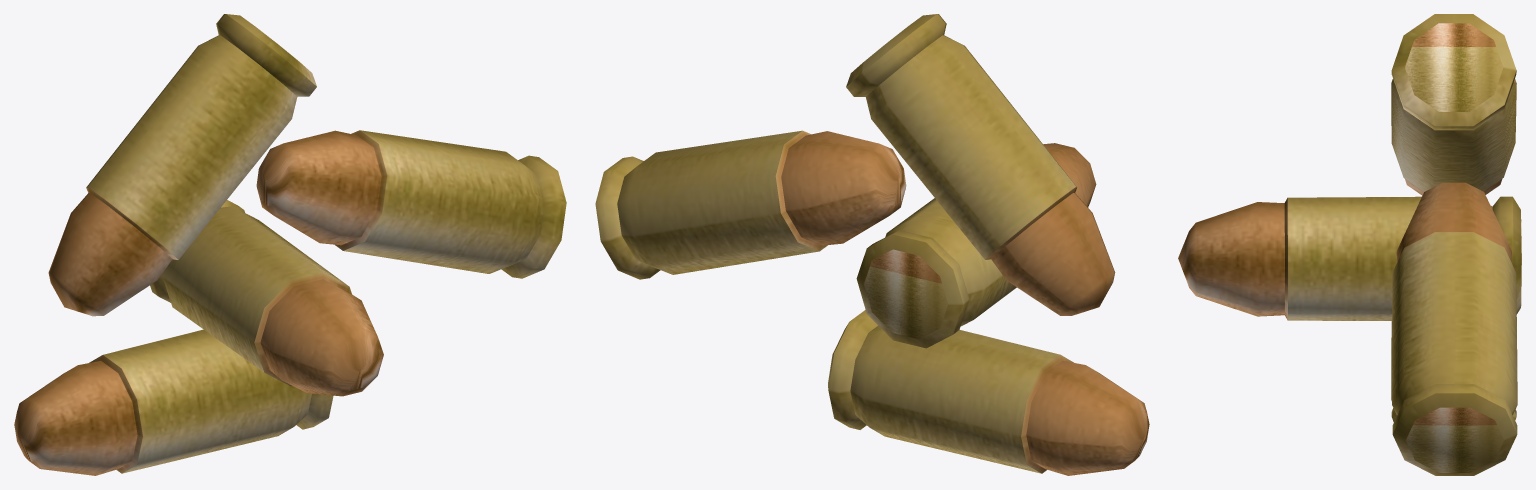
The model's file is bullets.DAE.
3 renders of one model, left to right at view 1: azimuth 30°, elevation 25°; view 2: azimuth 150°, elevation 25°; view 3: azimuth 270°, elevation 25°, orthographic.
Parts seen in each view (by area): view 1: Line002; view 2: Line002; view 3: Line002.
Part boxes in pixels (x1=…): Line002: x1=14, y1=14, x2=566, y2=475; Line002: x1=595, y1=14, x2=1149, y2=475; Line002: x1=1178, y1=14, x2=1521, y2=475.
Size of the model in its own units: 5.95 by 4.44 by 3.27.
1 material, 1 textured.
